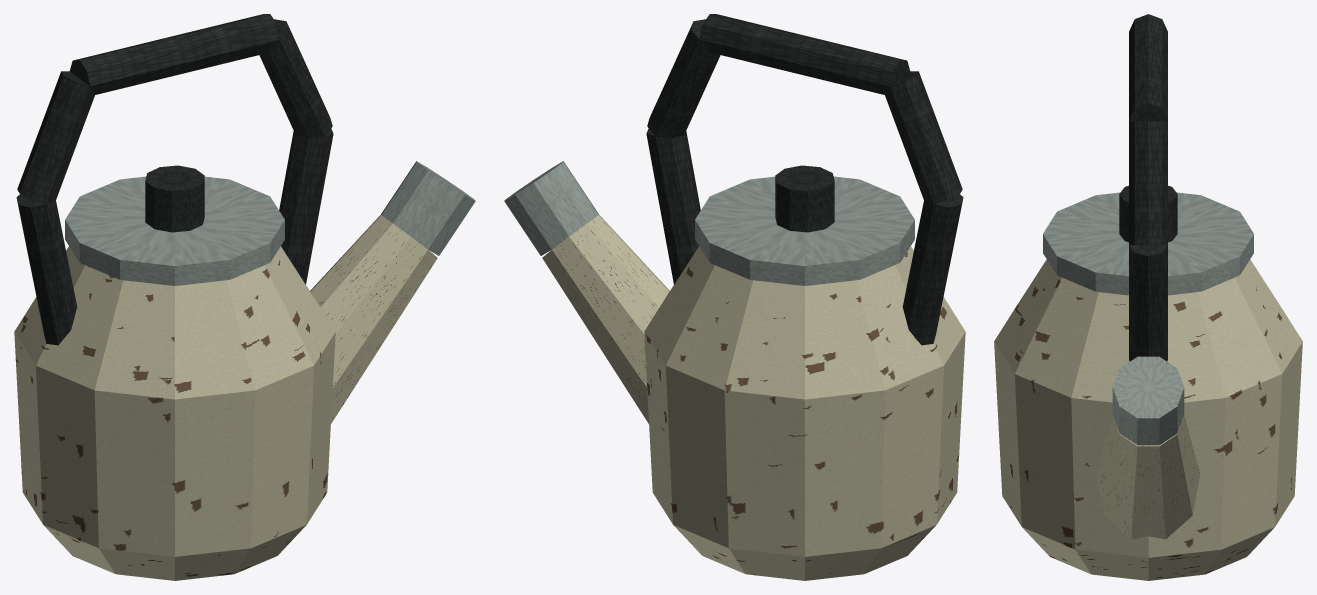
Rendered from CIS_EnamelKettle.glb.
3 renders of one model, left to right at view 1: azimuth 30°, elevation 25°; view 2: azimuth 150°, elevation 25°; view 3: azimuth 270°, elevation 25°, orthographic. The views are drawn at different scales.
Parts seen in each view (by area): view 1: CIS_EnamelKettle; view 2: CIS_EnamelKettle; view 3: CIS_EnamelKettle.
Boxes of the visible parts, x1,y1,x2,y2 form: CIS_EnamelKettle: [14, 14, 475, 580]; CIS_EnamelKettle: [504, 14, 965, 580]; CIS_EnamelKettle: [994, 14, 1302, 580].
Bounding box in the file's own units: 0.3078 × 0.322 × 0.19.
3 materials, 3 textured.
